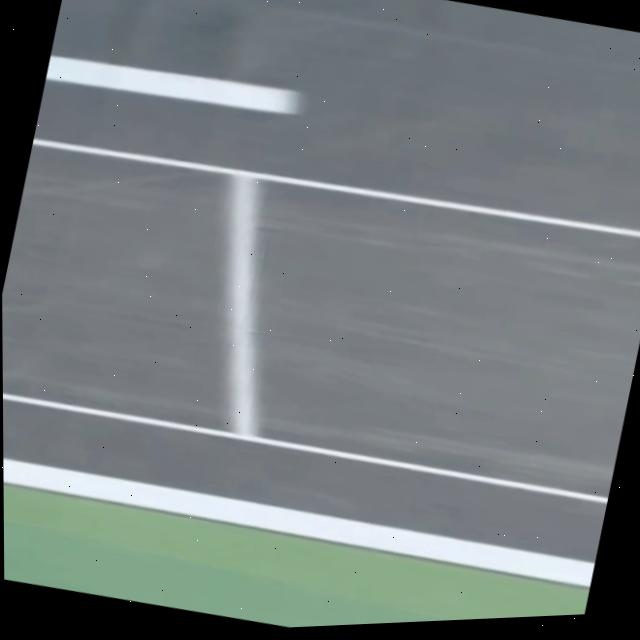center: (44, 55, 298, 112)
right: (3, 458, 594, 586)
